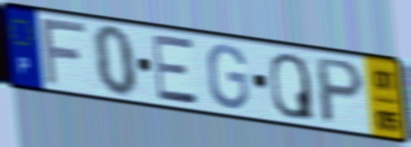0: (88, 22, 141, 100)
E: (149, 34, 202, 108)
F: (38, 17, 90, 88)
G: (206, 42, 252, 112)
P: (315, 55, 367, 127)
Q: (268, 51, 317, 123)
